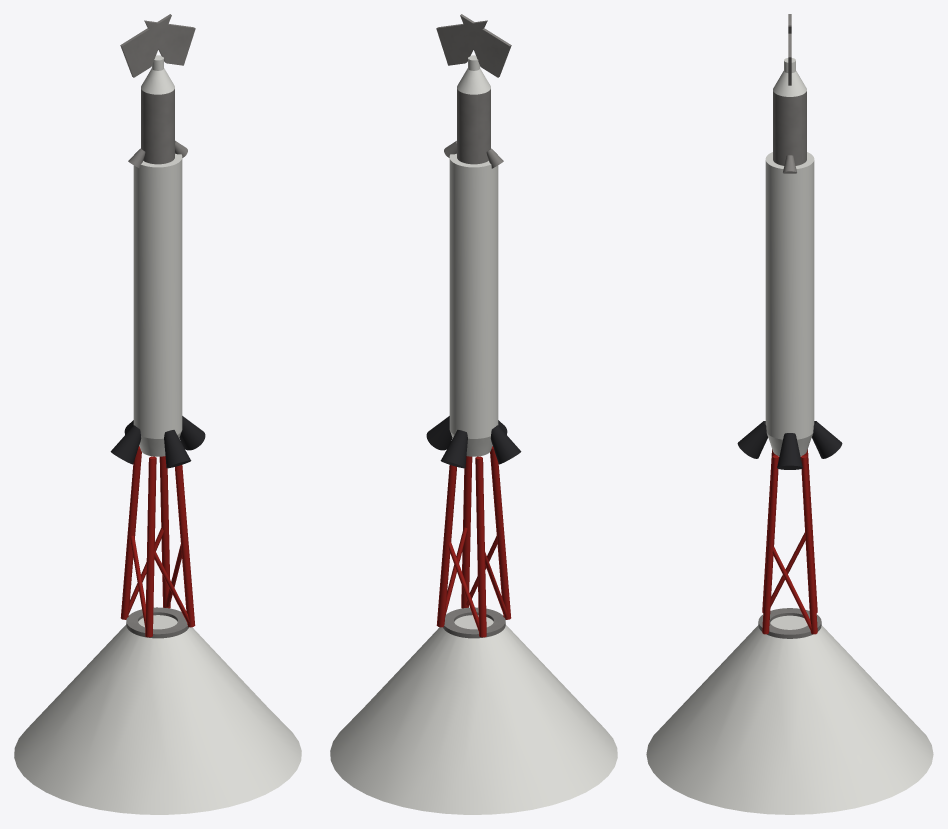
The model's file is prop24_launch_escape_tower_l.glb.
3 views of the same model, side by side, from view 1: azimuth 30°, elevation 25°; view 2: azimuth 150°, elevation 25°; view 3: azimuth 270°, elevation 25° (orthographic).
Visible parts, largest first — view 1: boost_cover, abort_motor, tower_truss, jettison_motor, abort_nozzles, canard_1, canard_2, docking_ring, nose; view 2: boost_cover, abort_motor, tower_truss, jettison_motor, abort_nozzles, canard_1, canard_2, docking_ring, nose; view 3: boost_cover, abort_motor, tower_truss, jettison_motor, abort_nozzles, docking_ring, nose.
Part boxes in pixels (bbox=[...]): boost_cover: bbox=[14, 615, 301, 814]; abort_motor: bbox=[133, 153, 182, 456]; tower_truss: bbox=[120, 446, 195, 637]; jettison_motor: bbox=[128, 89, 187, 168]; abort_nozzles: bbox=[110, 416, 205, 468]; canard_1: bbox=[120, 14, 171, 77]; canard_2: bbox=[144, 20, 195, 65]; docking_ring: bbox=[126, 607, 188, 638]; nose: bbox=[141, 55, 174, 94]; boost_cover: bbox=[330, 615, 617, 814]; abort_motor: bbox=[449, 153, 498, 456]; tower_truss: bbox=[436, 446, 511, 637]; jettison_motor: bbox=[444, 89, 503, 168]; abort_nozzles: bbox=[426, 416, 521, 468]; canard_1: bbox=[460, 14, 511, 77]; canard_2: bbox=[436, 20, 487, 65]; docking_ring: bbox=[443, 607, 505, 638]; nose: bbox=[457, 55, 490, 94]; boost_cover: bbox=[646, 615, 933, 814]; abort_motor: bbox=[765, 152, 814, 456]; tower_truss: bbox=[762, 449, 817, 634]; jettison_motor: bbox=[773, 91, 806, 173]; abort_nozzles: bbox=[737, 421, 842, 469]; docking_ring: bbox=[758, 608, 821, 638]; nose: bbox=[773, 58, 806, 96].
Bounding box in the file's own units: 3.75 × 10.57 × 3.75.
Materials: 4 (1 with a texture image).
